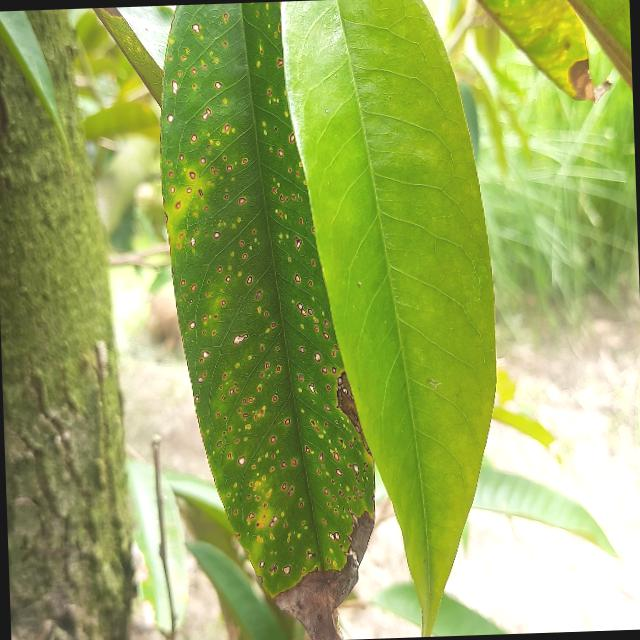Leaf Spot: (147, 0, 388, 639)
No Disease: (284, 0, 513, 639)
